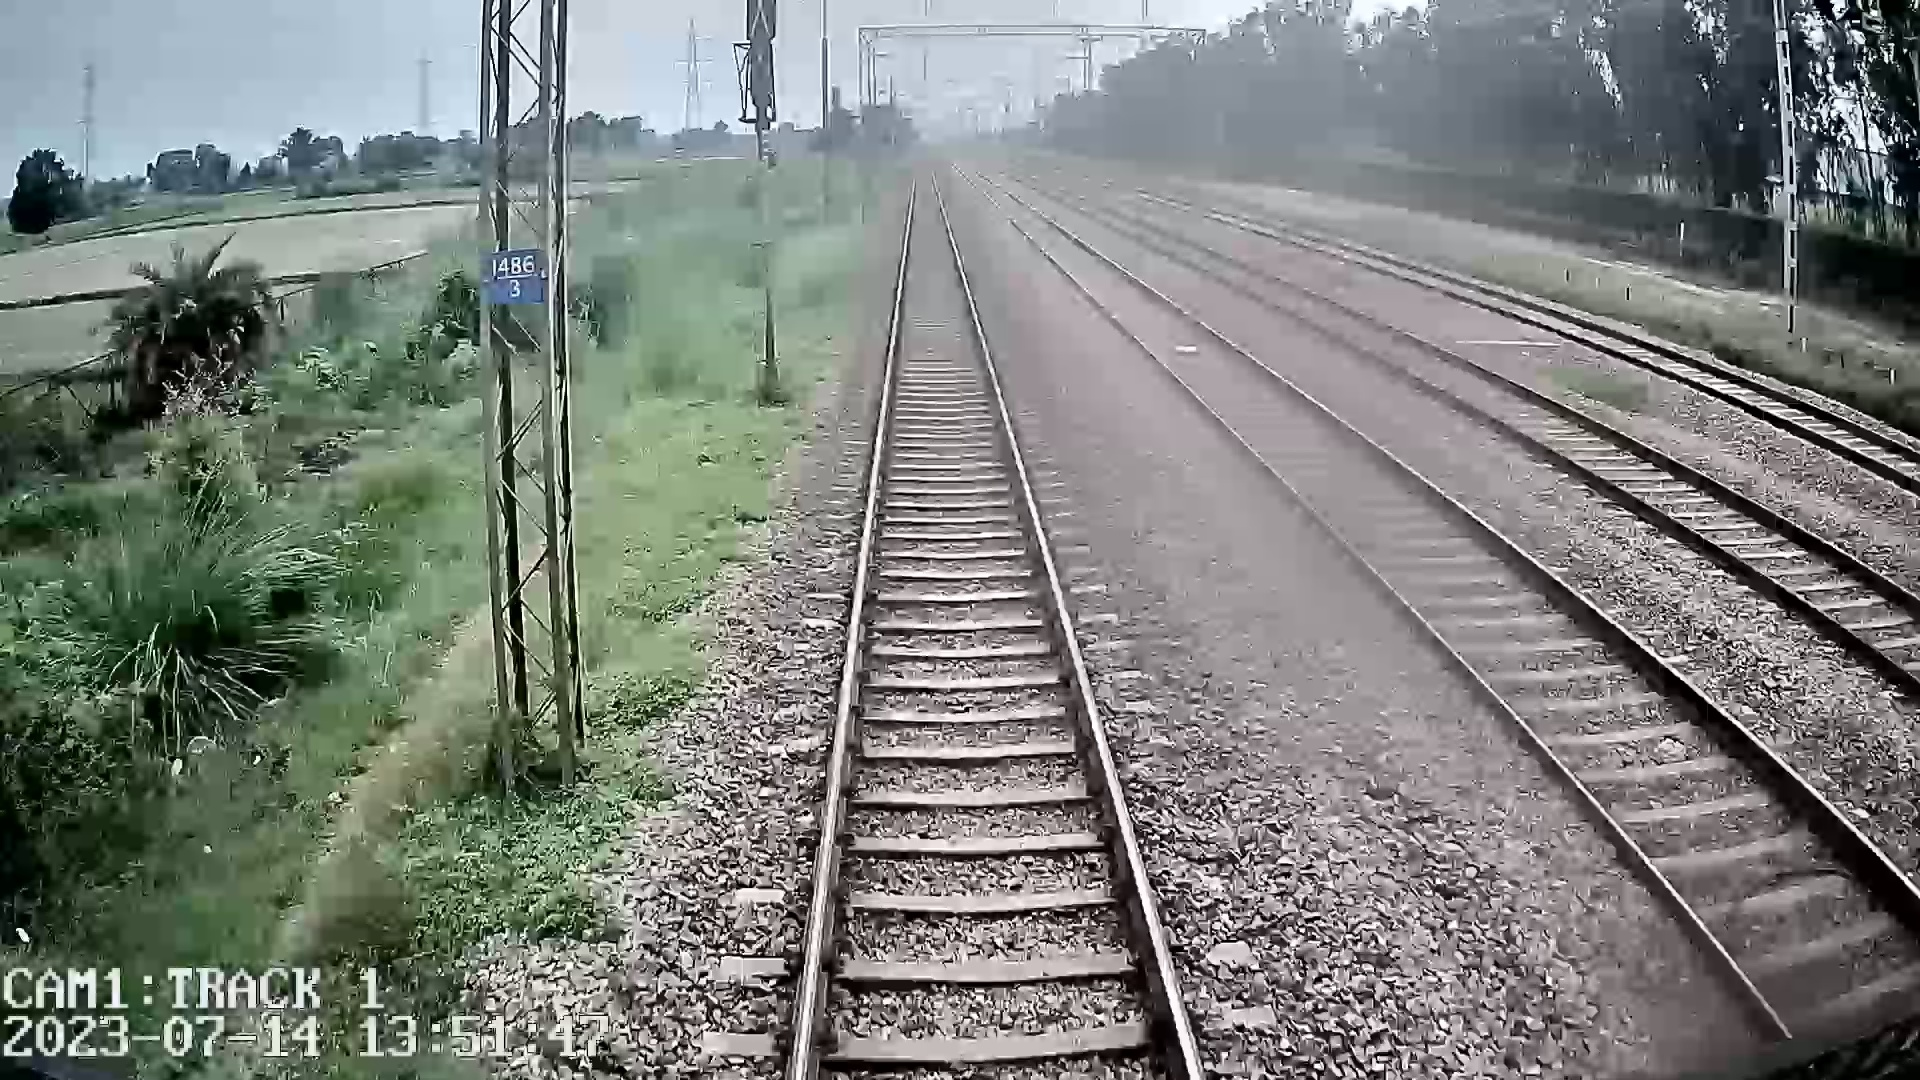track1: (798, 181, 1195, 1068)
track2: (1001, 204, 1919, 1035)
track3: (1139, 233, 1919, 680)
track4: (1312, 243, 1919, 485)
